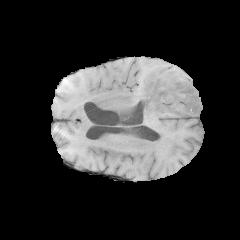glioma: (136, 64, 202, 138)
